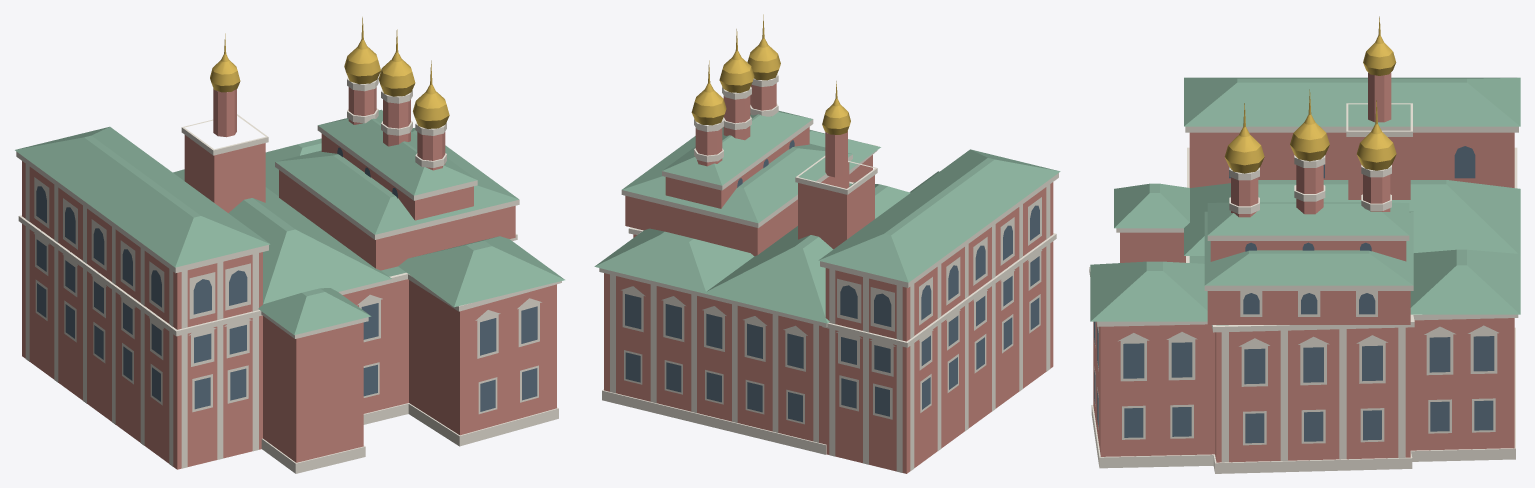
The model's file is moscow-amusement-palace.glb.
3 renders of one model, left to right at view 1: azimuth 30°, elevation 25°; view 2: azimuth 150°, elevation 25°; view 3: azimuth 270°, elevation 25°, orthographic. The views are drawn at different scales.
Visible parts, largest first — view 1: Amusement Palace; view 2: Amusement Palace; view 3: Amusement Palace.
Part boxes in pixels (bbox=[...]): Amusement Palace: bbox=[15, 17, 564, 473]; Amusement Palace: bbox=[594, 14, 1060, 473]; Amusement Palace: bbox=[1089, 16, 1520, 473].
Size of the model in its own units: 29.06 by 26.2 by 29.06.
